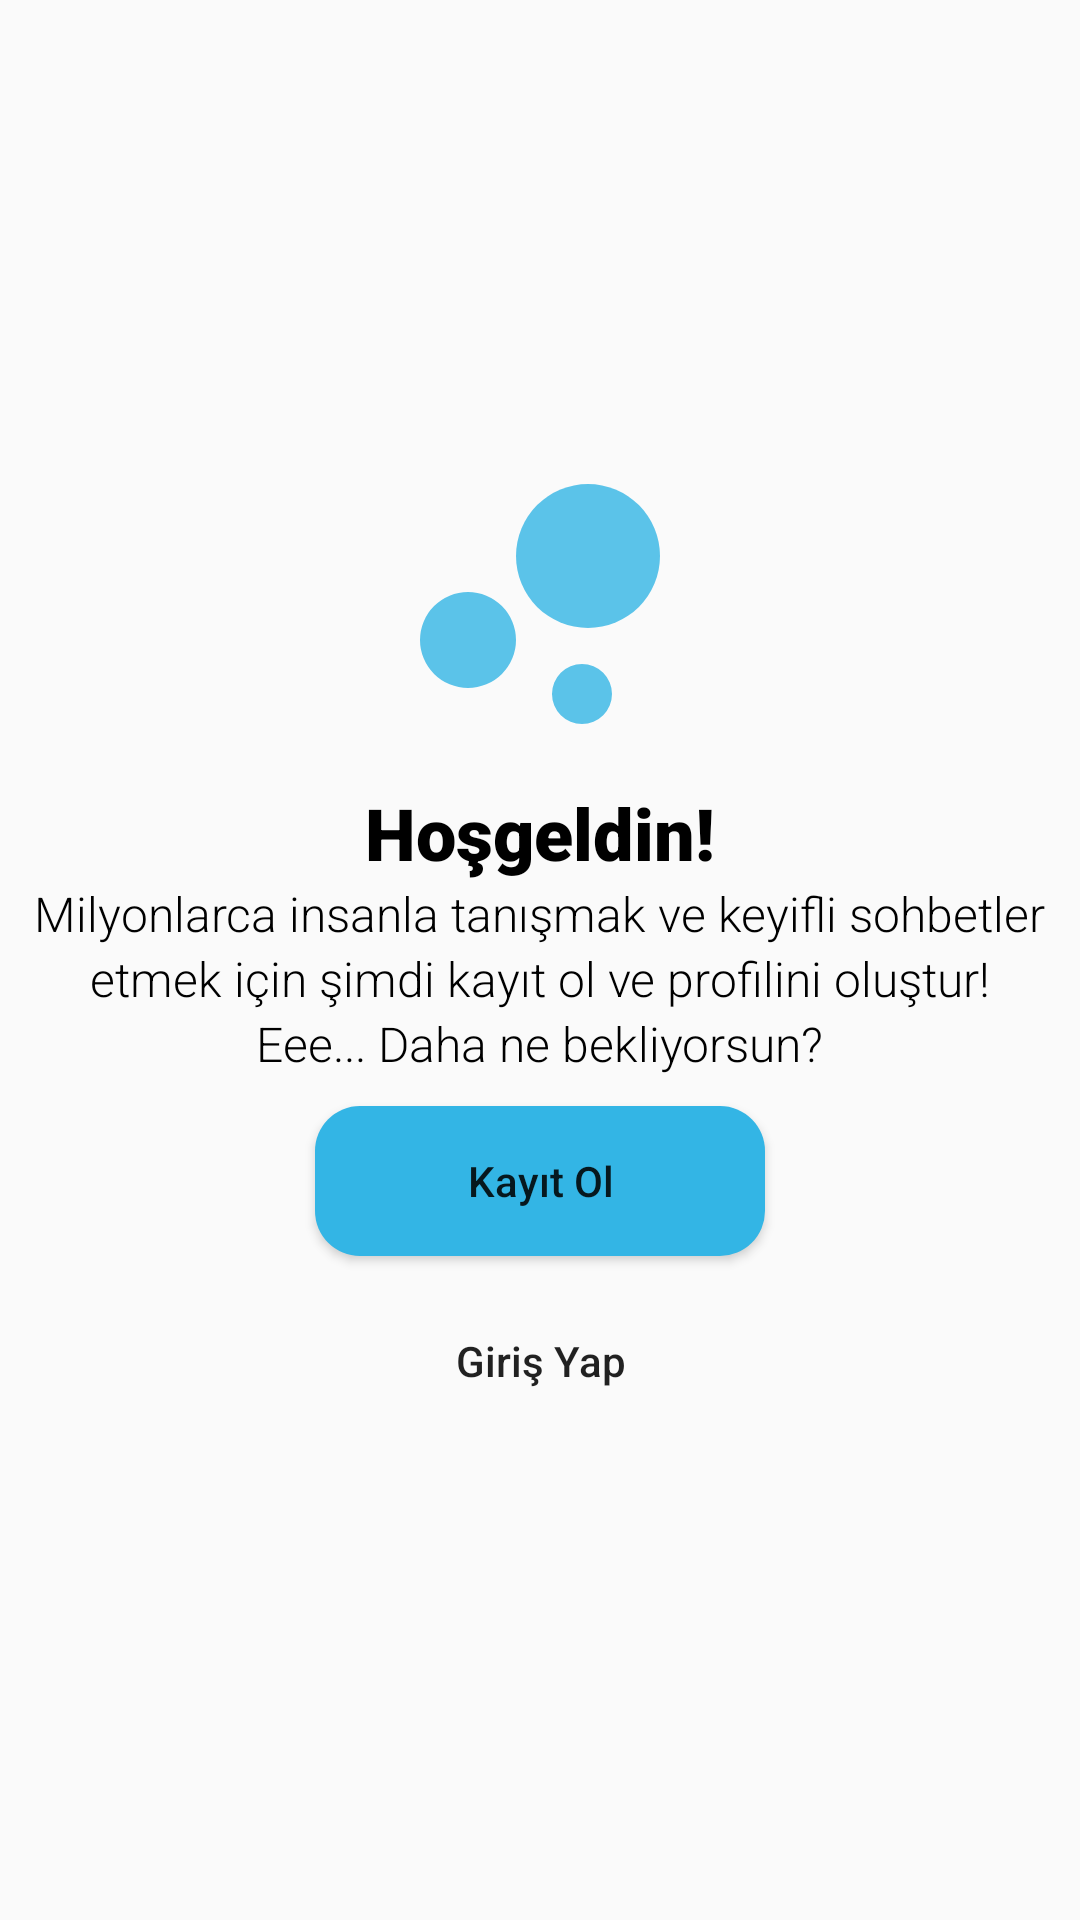

Screen size 1080 × 1920. Icon name, then its center in pixels as point (x, y):
bubbles: point (540, 604)
